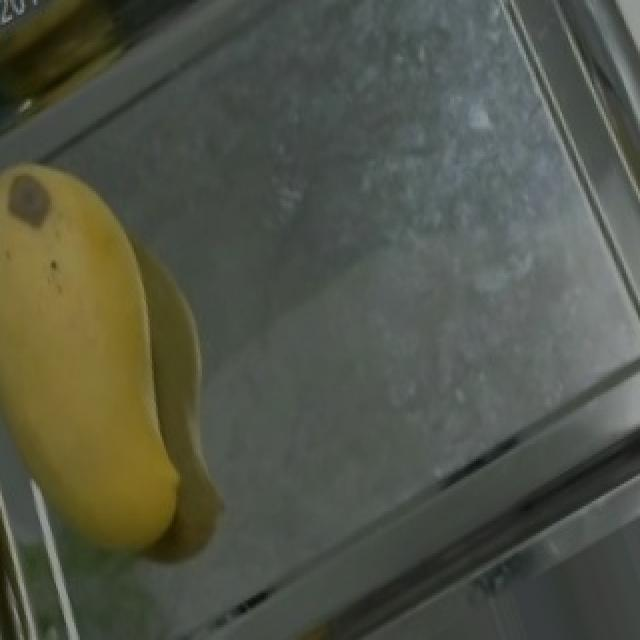fruit: (0, 119, 276, 546)
